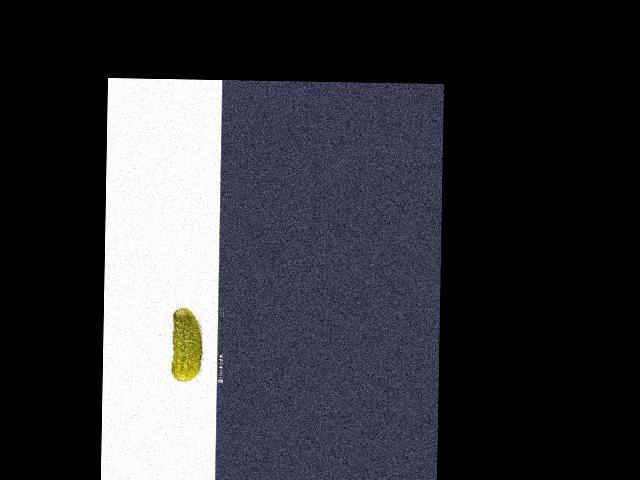cucumber: (171, 306, 202, 381)
